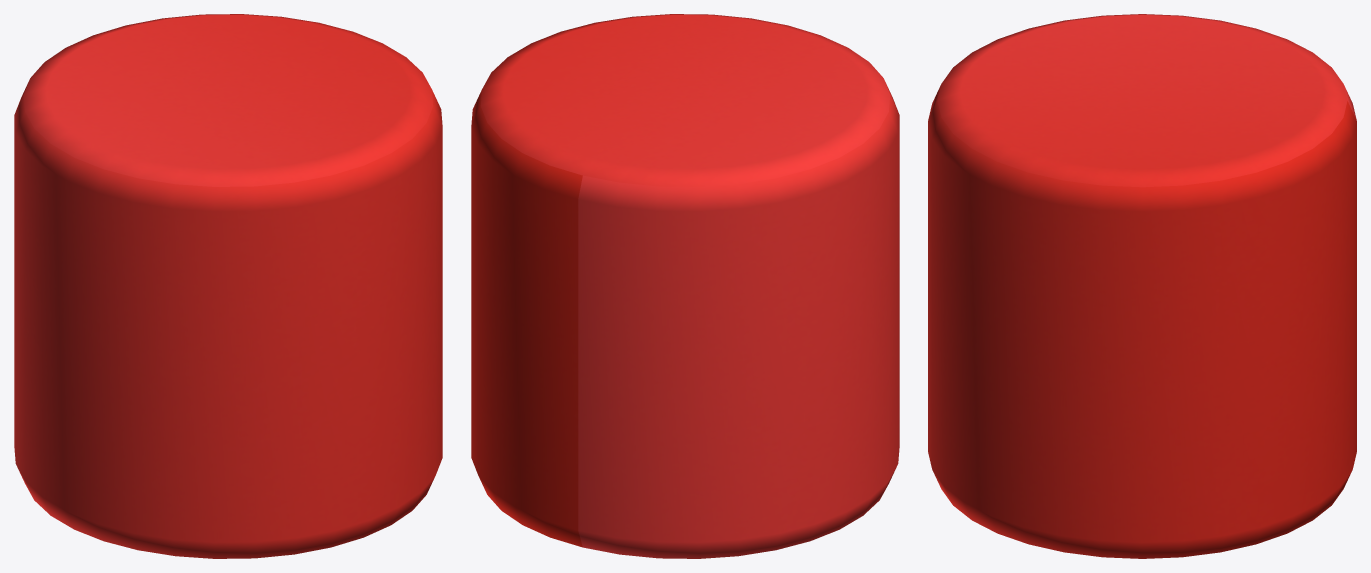
The model's file is BlockBarrelRed.fbx.
The picture shows the model from 3 angles, left to right: view 1: azimuth 30°, elevation 25°; view 2: azimuth 150°, elevation 25°; view 3: azimuth 270°, elevation 25°; orthographic projection.
Visible parts, largest first — view 1: Cylinder.004; view 2: Cylinder.004; view 3: Cylinder.004.
Boxes of the visible parts, <box> form: Cylinder.004: <box>14,14,442,558</box>; Cylinder.004: <box>471,14,899,558</box>; Cylinder.004: <box>928,14,1356,558</box>.
Bounding box in the file's own units: 200 × 200 × 200.
